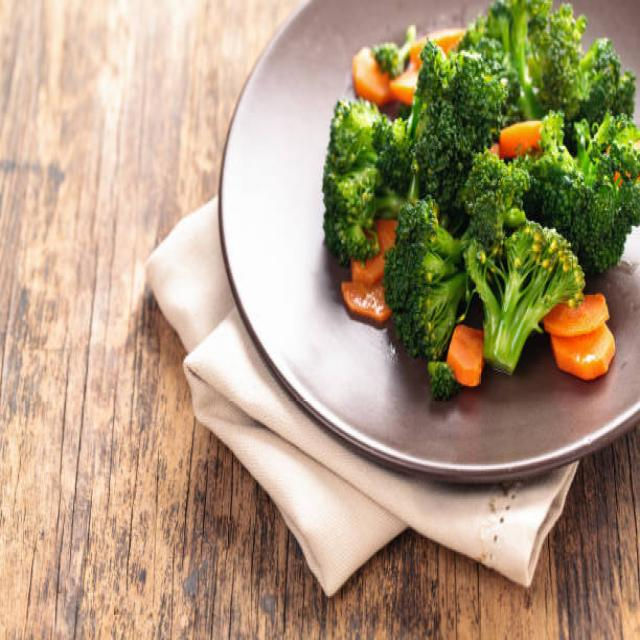broccoli: (484, 217, 578, 386), (414, 65, 500, 193), (395, 218, 457, 369), (544, 124, 640, 221), (523, 0, 613, 101), (330, 105, 390, 252)
